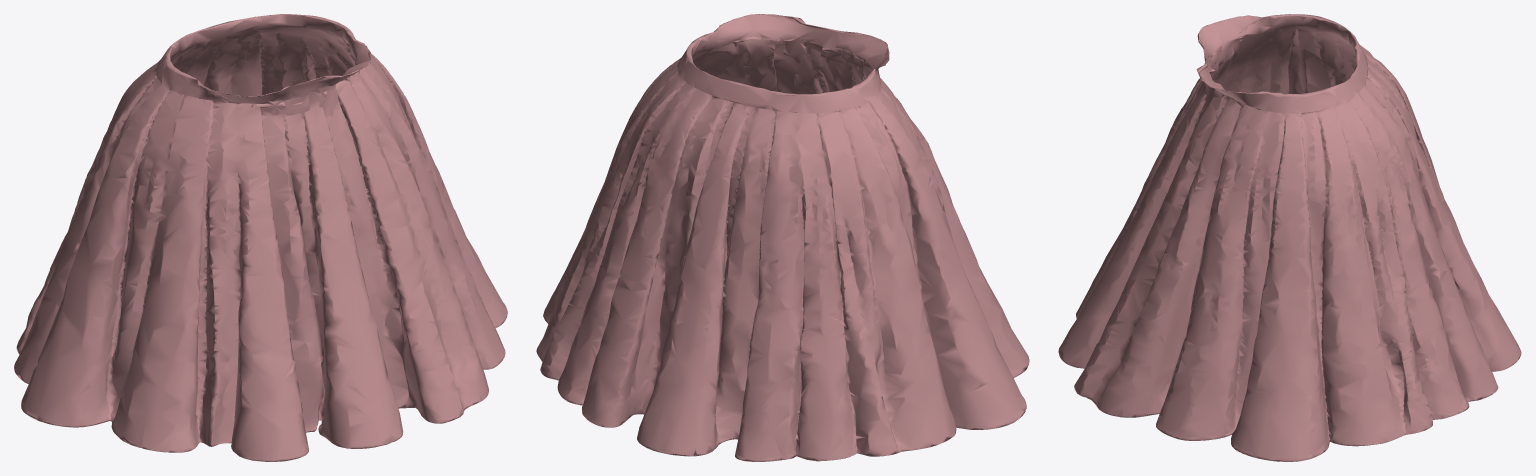
The model's file is bottom_f_skirt.glb.
3 views of the same model, side by side, from view 1: azimuth 30°, elevation 25°; view 2: azimuth 150°, elevation 25°; view 3: azimuth 270°, elevation 25° (orthographic). The views are drawn at different scales.
Parts seen in each view (by area): view 1: bottom_f_skirt; view 2: bottom_f_skirt; view 3: bottom_f_skirt.
Boxes of the visible parts, left/top/right/bottom form: bottom_f_skirt: left=14, top=14, right=507, bottom=461; bottom_f_skirt: left=536, top=14, right=1029, bottom=461; bottom_f_skirt: left=1058, top=14, right=1521, bottom=461.
Bounding box in the file's own units: 0.9448 × 0.6037 × 0.831.
1 material, 1 textured.
